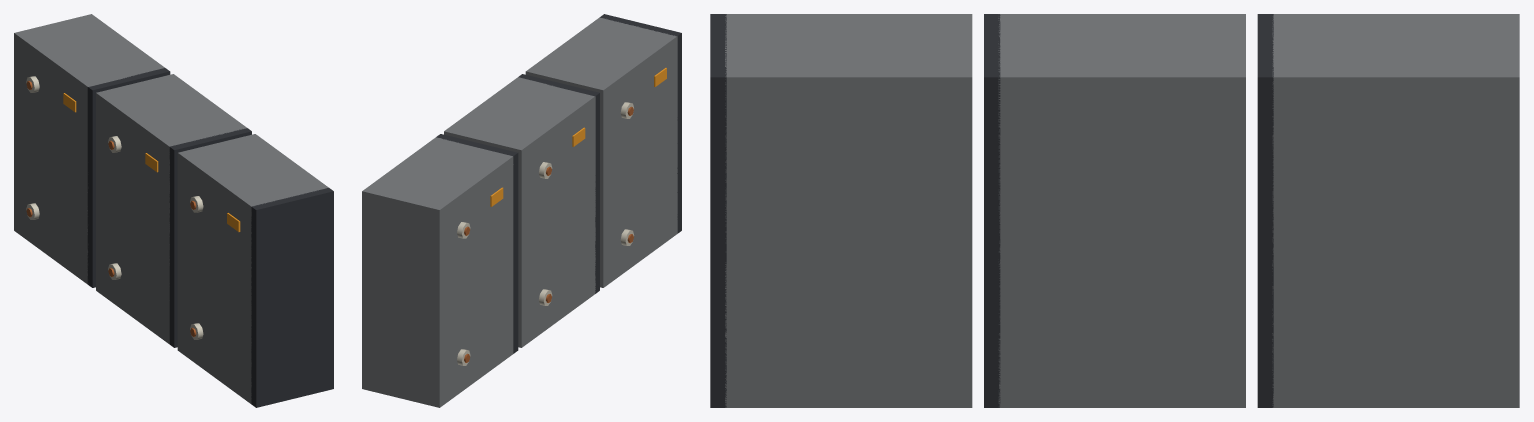
The model's file is sr150_cells.obj.
3 renders of one model, left to right at view 1: azimuth 30°, elevation 25°; view 2: azimuth 150°, elevation 25°; view 3: azimuth 270°, elevation 25°, orthographic. The views are drawn at different scales.
Parts seen in each view (by area): view 1: sr150_cells; view 2: sr150_cells; view 3: sr150_cells.
Boxes of the visible parts, x1,y1,x2,y2 form: sr150_cells: [14, 14, 333, 407]; sr150_cells: [362, 14, 681, 407]; sr150_cells: [710, 14, 1519, 407].
Bounding box in the file's own units: 0.25 × 0.56 × 1.24.
